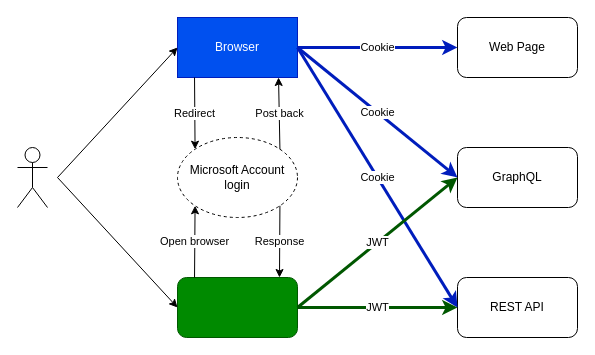
Image size: 595x355. Some labels were removed from this diagram. Each missing label, with the box of its shape:
Mobile/Native App: (176, 276, 298, 338)
User: (16, 146, 48, 208)
